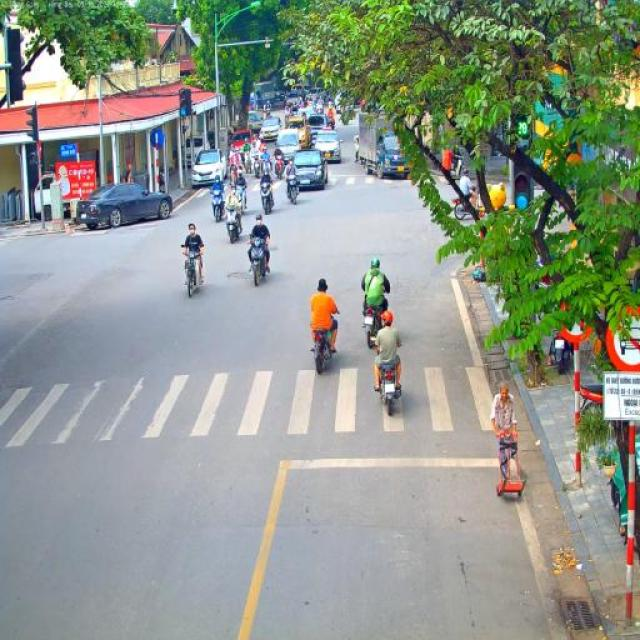car: (76, 181, 173, 229), (290, 148, 330, 191), (191, 149, 227, 189), (272, 128, 304, 167), (313, 130, 342, 164), (284, 116, 312, 149), (230, 130, 252, 160), (306, 114, 328, 144), (259, 116, 281, 143), (286, 84, 309, 104), (306, 87, 329, 104), (247, 112, 263, 136), (272, 90, 288, 106)
motorcycle: (310, 310, 340, 375), (378, 361, 402, 417), (181, 244, 205, 298), (247, 234, 271, 287), (452, 182, 482, 222), (548, 326, 572, 375), (362, 302, 383, 348), (223, 205, 243, 244), (209, 186, 227, 223), (259, 181, 275, 215), (284, 174, 300, 205), (229, 161, 242, 187), (248, 152, 261, 178), (235, 184, 247, 211), (260, 158, 272, 182), (274, 165, 286, 184), (244, 148, 252, 172), (326, 113, 336, 132), (266, 110, 272, 118)
truck: (358, 112, 412, 179), (252, 81, 276, 111)
